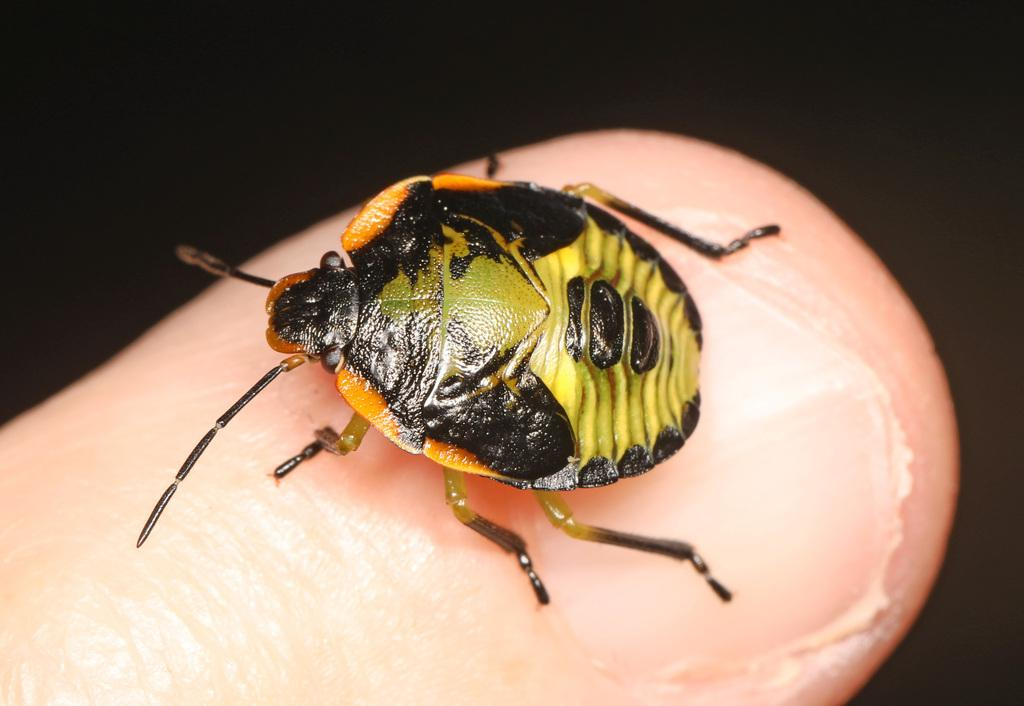stink_bugs: (73, 71, 881, 706)
